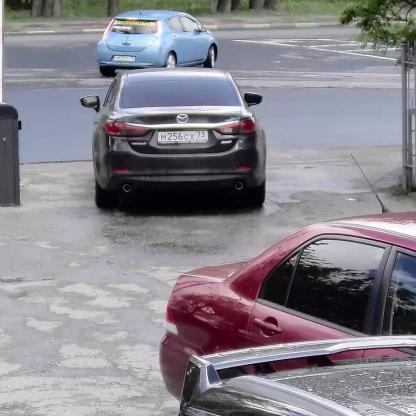plate: (158, 131, 208, 142)
